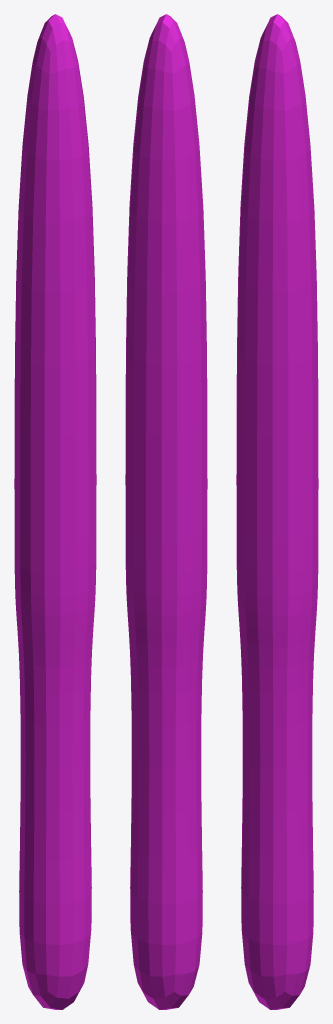
File: enemy`s dildo weapon.fbx
3 renders of one model, left to right at view 1: azimuth 30°, elevation 25°; view 2: azimuth 150°, elevation 25°; view 3: azimuth 330°, elevation 25°, orthographic.
Parts seen in each view (by area): view 1: Cube; view 2: Cube; view 3: Cube.
Boxes of the visible parts, box(x1,y1,x2,y2) form: Cube: box(14, 14, 96, 1009); Cube: box(125, 14, 207, 1009); Cube: box(236, 14, 318, 1009).
Bounding box in the file's own units: 106 × 1431 × 106.
